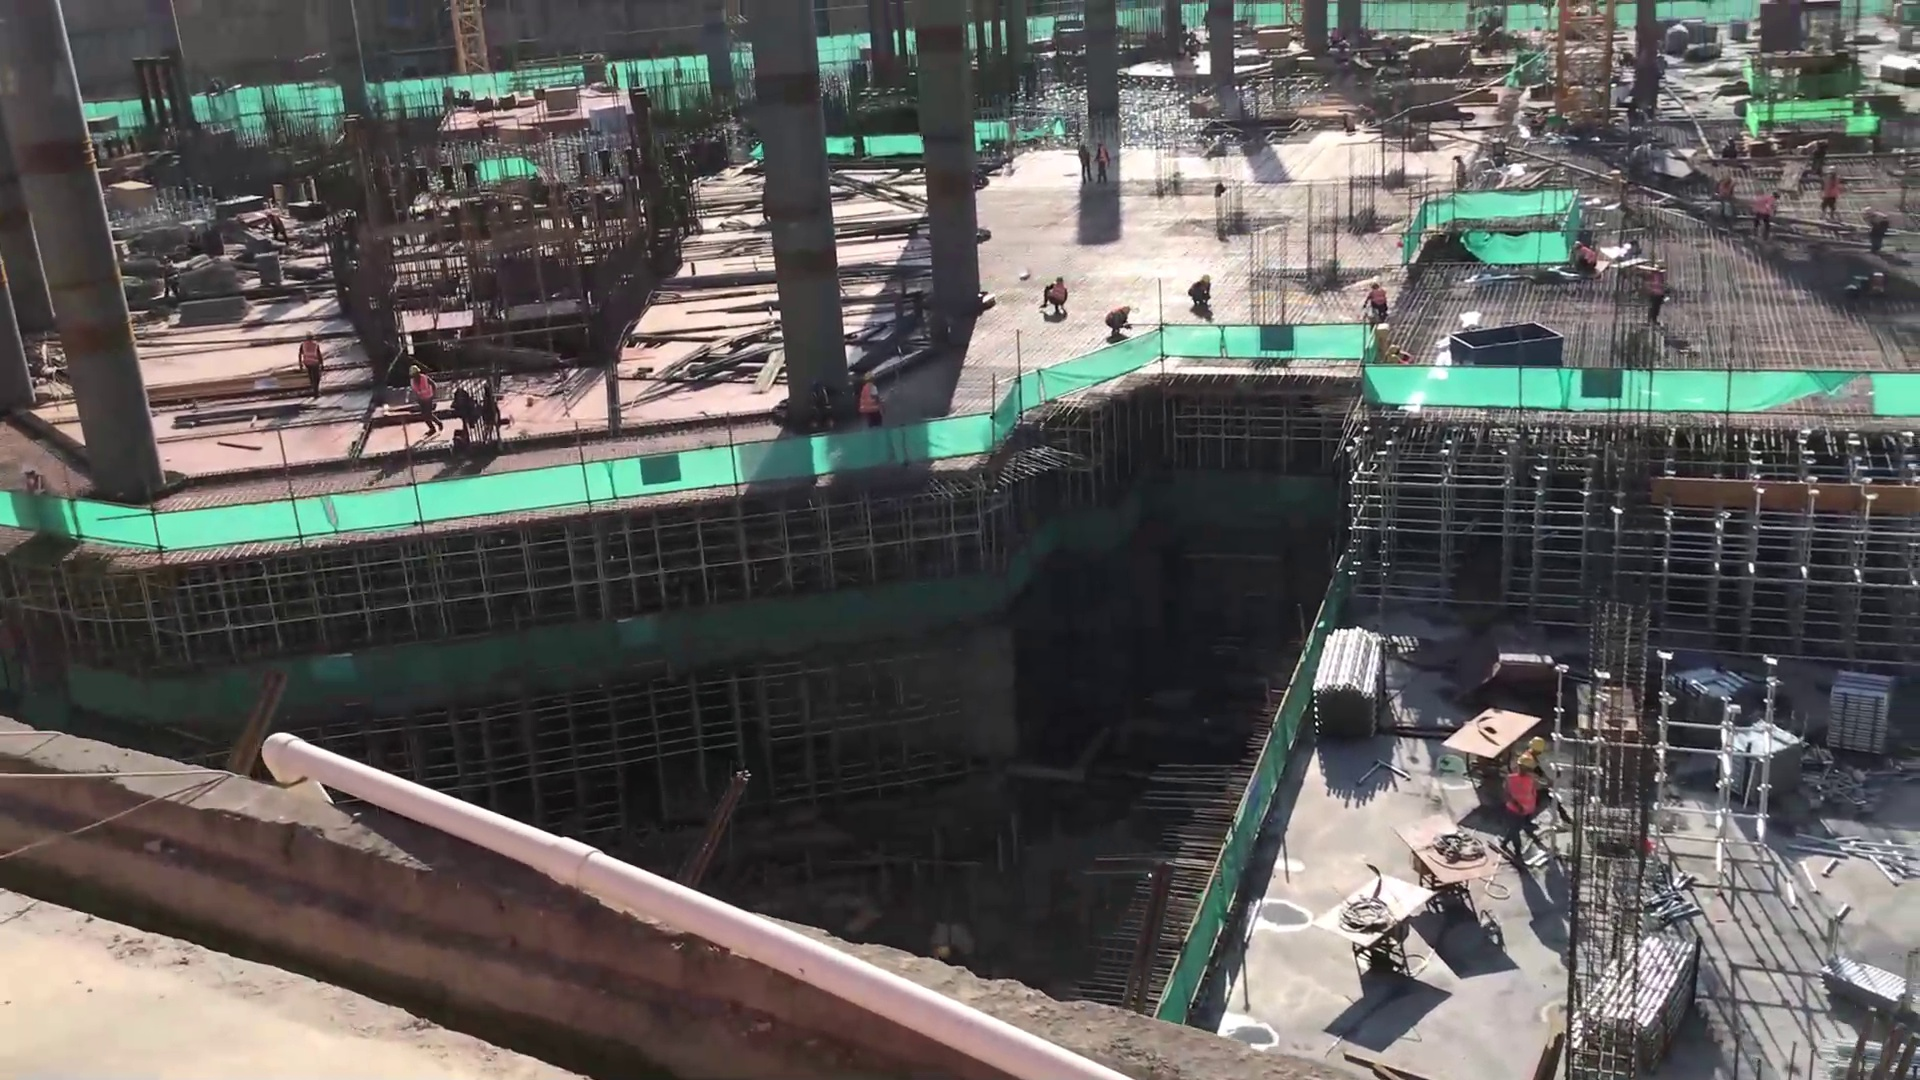helmet: (1518, 754, 1537, 771), (1528, 736, 1547, 752), (405, 365, 423, 375), (862, 371, 877, 381), (1201, 274, 1210, 284)
hopper: (1446, 313, 1555, 365)
person: (1504, 752, 1549, 868), (405, 361, 445, 437), (295, 333, 328, 399), (857, 365, 886, 430), (1857, 204, 1893, 253), (1818, 164, 1844, 228), (1041, 275, 1073, 325), (1751, 186, 1779, 239), (1191, 272, 1215, 319), (1105, 303, 1133, 340), (1571, 239, 1603, 269), (1096, 142, 1114, 188), (1368, 281, 1387, 317), (1075, 145, 1091, 186)
scaffold: (1316, 620, 1384, 730), (1636, 935, 1700, 1043), (1832, 662, 1891, 753)
vest: (408, 374, 439, 401), (860, 383, 882, 413), (299, 339, 322, 368), (1051, 279, 1067, 304), (1580, 245, 1598, 265), (1369, 288, 1387, 306)
